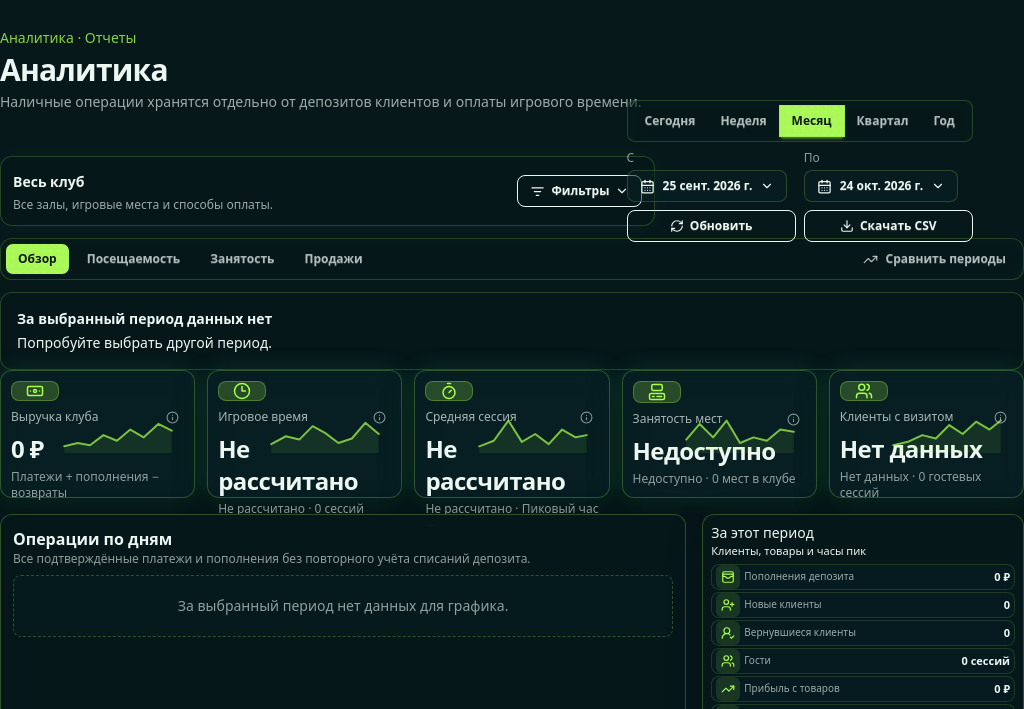
Test: AnalyticsView › показывает меню отчётов, период и дополнительные фильтры
The image size is (1024, 709).
Expected: the tab "Посещаемость" is shown, [74,243,193,275]
Expected: the tab "Занятость" is shown, [197,243,287,275]
Click the button "Фильтры" at [580, 191], box [518,175,642,207]
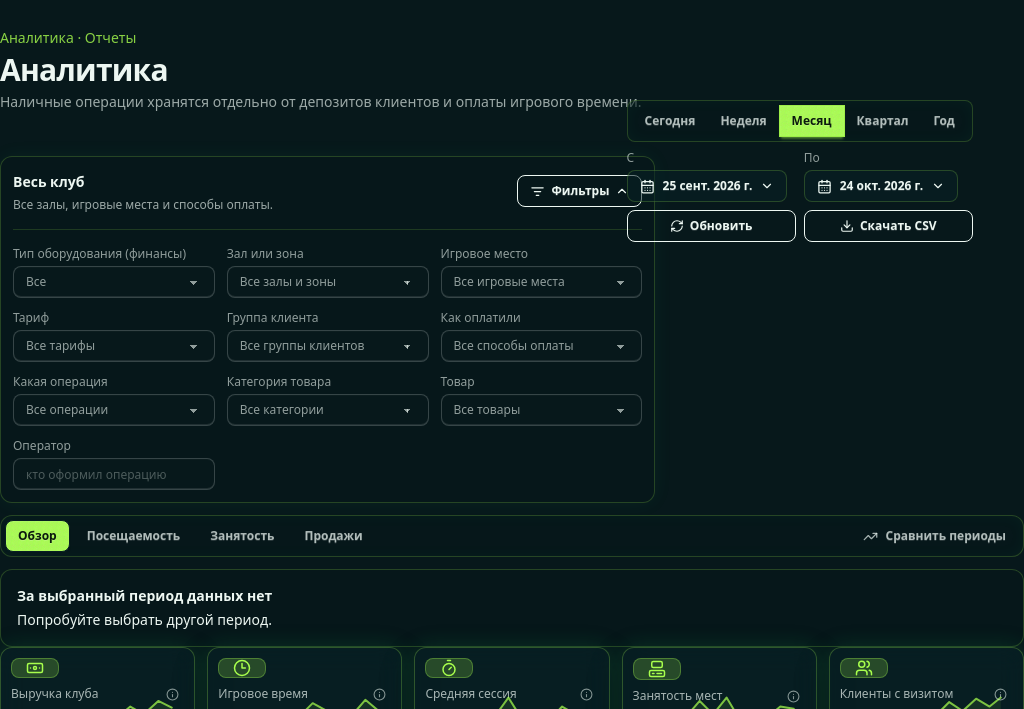
Expected: the dropdown labelled "Зал или зона" is shown, [227,266,429,298]
